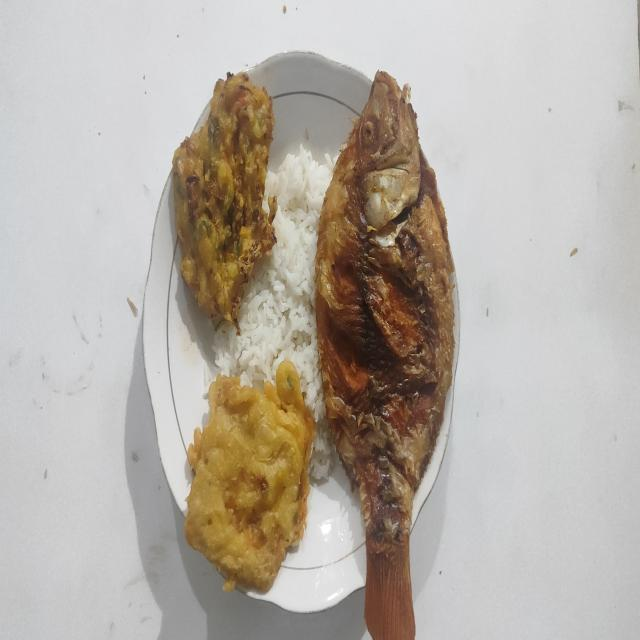ikan_mujair: (316, 71, 454, 640)
nasi_putih: (213, 144, 334, 481)
